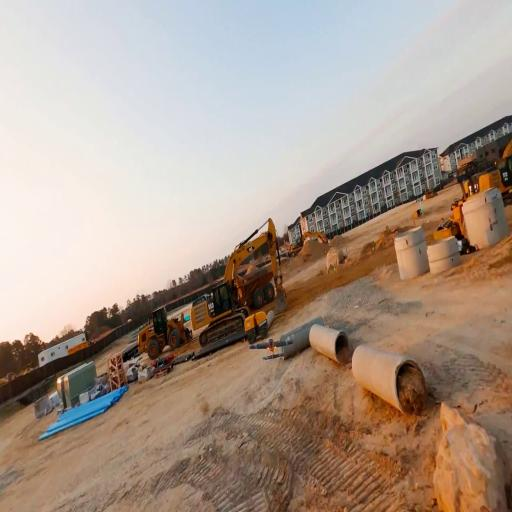uav: (248, 337, 294, 363)
